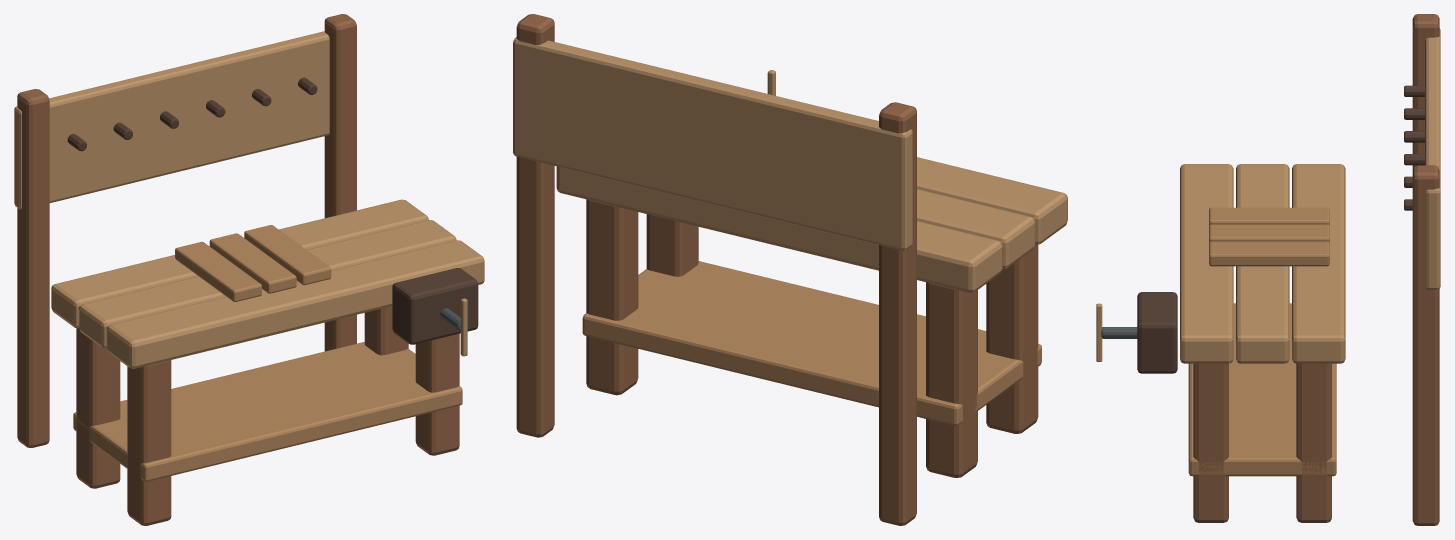
Rendered from workshop_carpenter_station.glb.
3 renders of one model, left to right at view 1: azimuth 30°, elevation 25°; view 2: azimuth 150°, elevation 25°; view 3: azimuth 270°, elevation 25°, orthographic. The views are drawn at different scales.
Visible parts, largest first — view 1: workshop_carpenter_station; view 2: workshop_carpenter_station; view 3: workshop_carpenter_station.
Part boxes in pixels (left/top/right/bottom): workshop_carpenter_station: left=14, top=14, right=484, bottom=525; workshop_carpenter_station: left=513, top=14, right=1067, bottom=525; workshop_carpenter_station: left=1096, top=14, right=1440, bottom=525.
Bounding box in the file's own units: 1.85 × 1.74 × 1.54.
